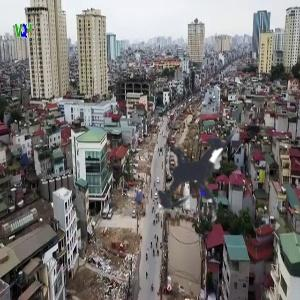drone: (111, 83, 293, 265)
